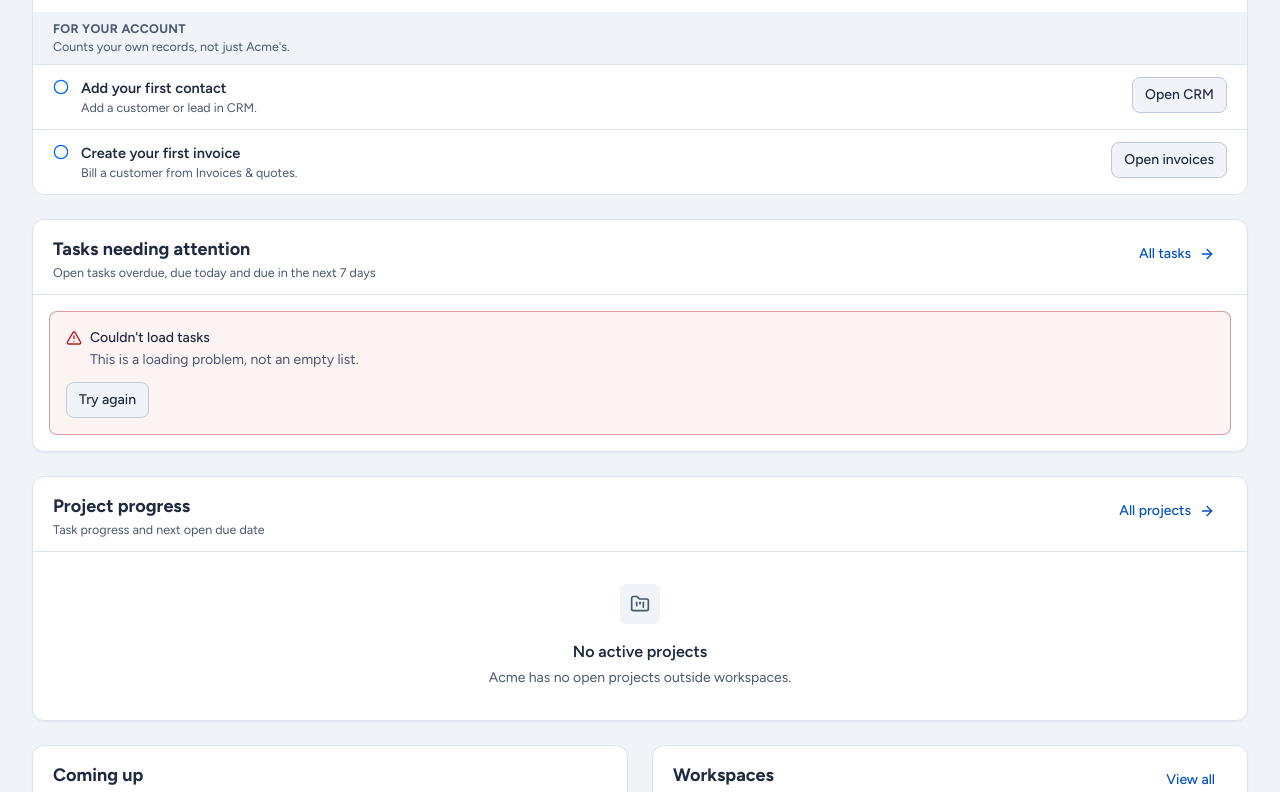
Scenario: Dashboard › shows a retryable error — not an empty state — when the task query fails
(page scrolled)
Expected: the text "Couldn't load tasks" is shown, top-left (90, 329), bottom-right (210, 346)
Click the button "Try again".
click(108, 400)  # box top-left (66, 382), bottom-right (149, 418)
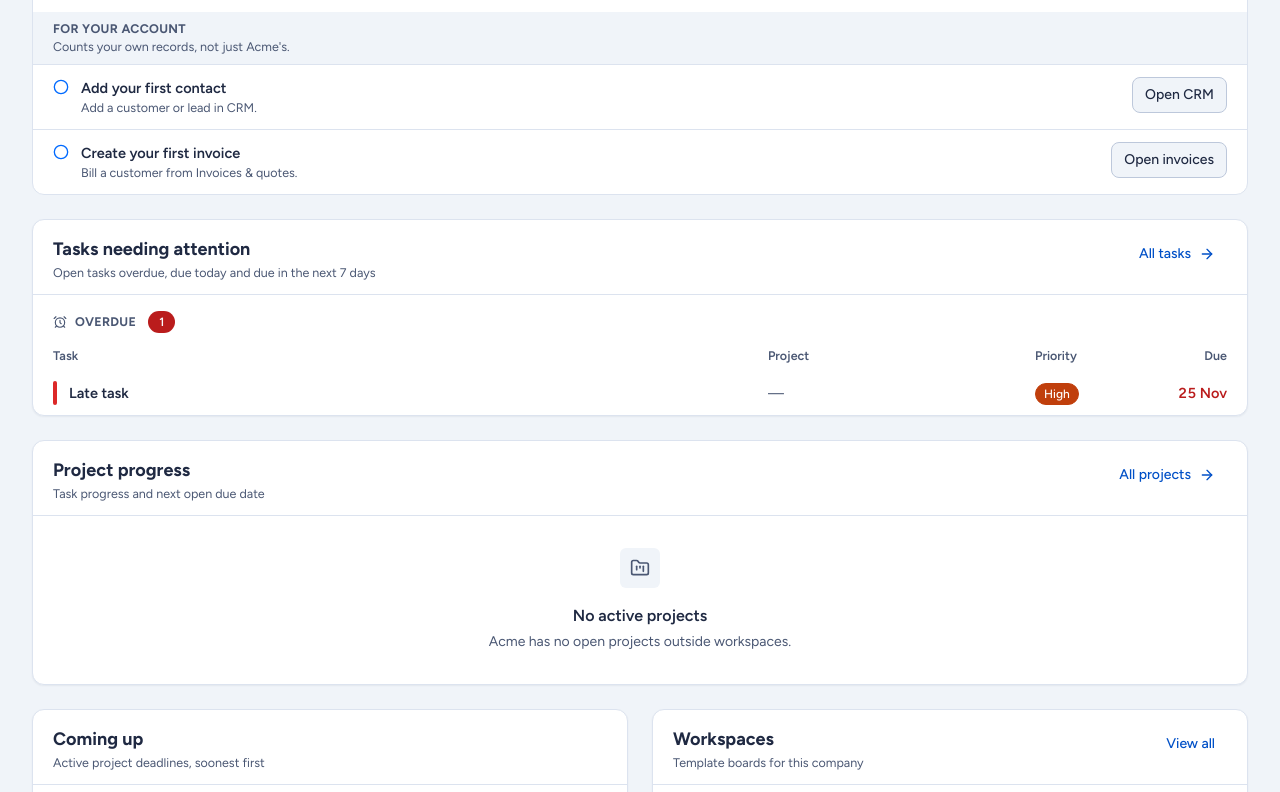
Expected: the link "Late task" is shown, top-left (69, 382), bottom-right (129, 404)
